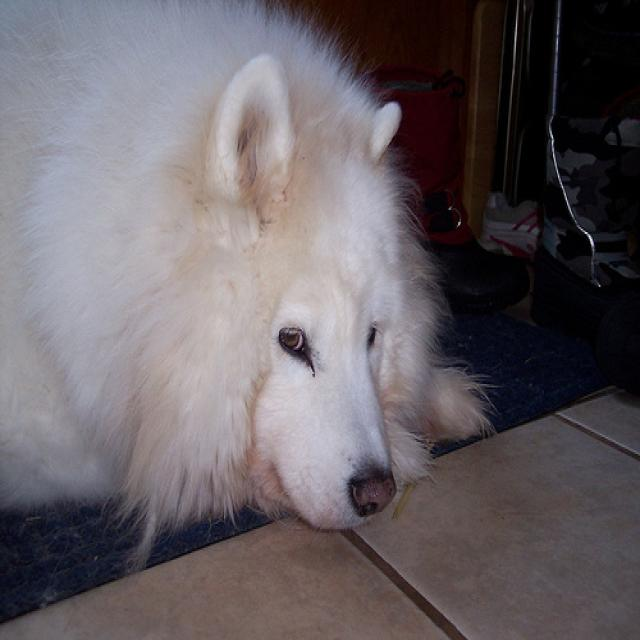dog-samoyed: (1, 2, 484, 548)
